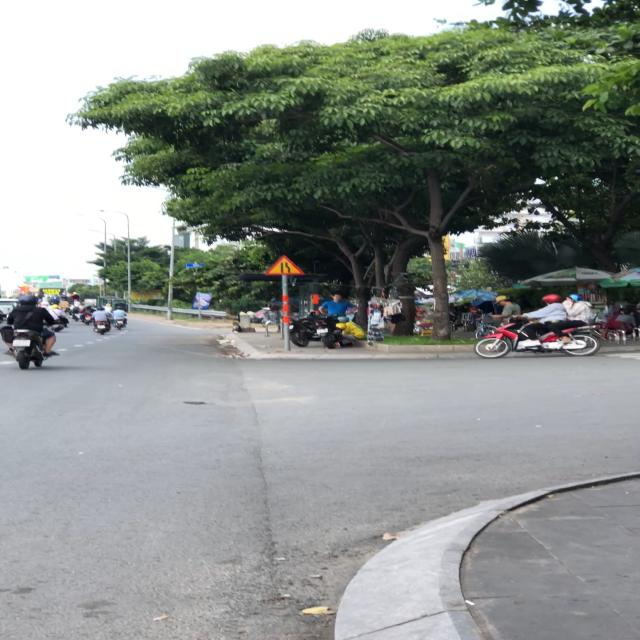Bien bao duong bi thu hep: (263, 253, 305, 276)
